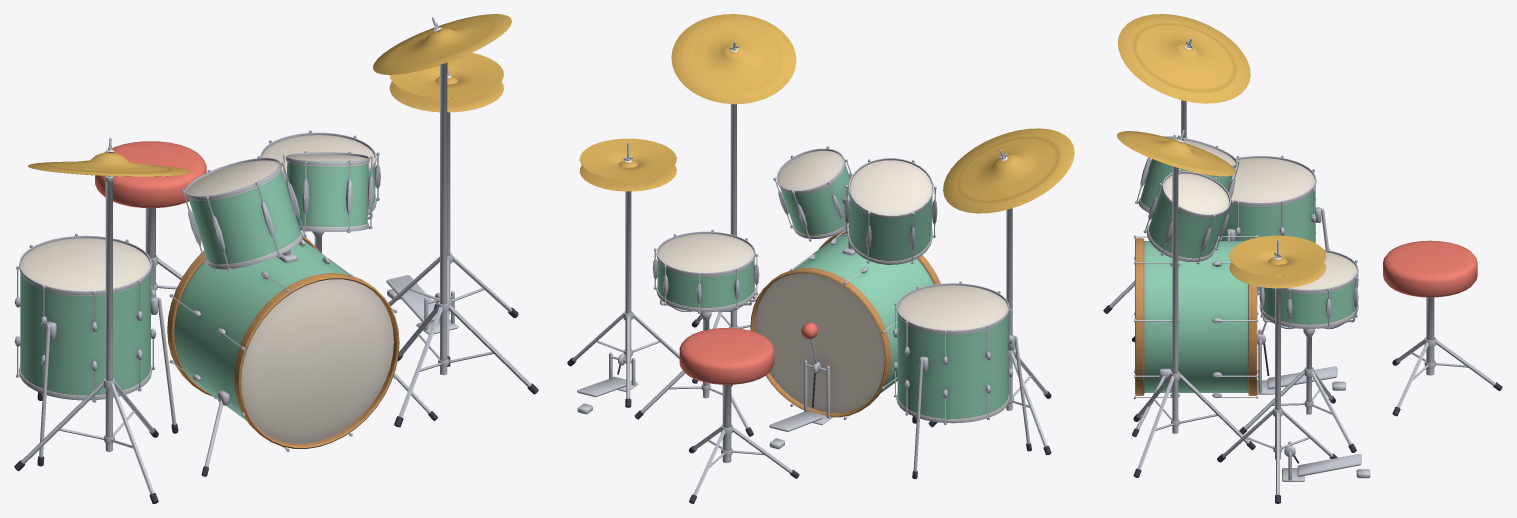
The model's file is drum-kit.glb.
3 views of the same model, side by side, from view 1: azimuth 30°, elevation 25°; view 2: azimuth 150°, elevation 25°; view 3: azimuth 270°, elevation 25° (orthographic). The views are drawn at different scales.
Parts seen in each view (by area): view 1: drum-kit_body; view 2: drum-kit_body; view 3: drum-kit_body.
Part boxes in pixels (x1,y1,x2,y2): drum-kit_body: [14, 14, 538, 503]; drum-kit_body: [567, 14, 1074, 503]; drum-kit_body: [1103, 14, 1502, 503].
Bounding box in the file's own units: 1.93 × 1.29 × 1.47.
Materials: 1 (1 with a texture image).
